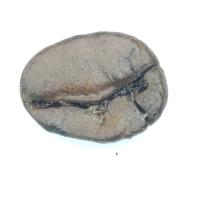NG: (30, 71, 157, 143)
